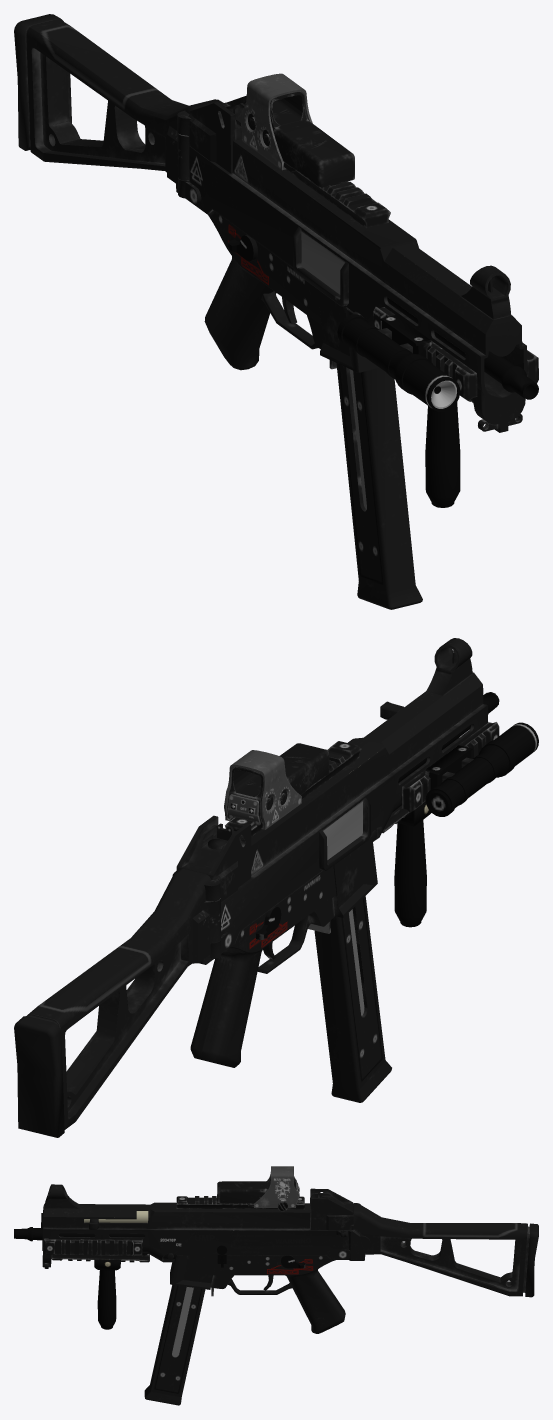
The model's file is SMG_U45.fbx.
3 views of the same model, one above another, from view 1: azimuth 30°, elevation 25°; view 2: azimuth 150°, elevation 25°; view 3: azimuth 270°, elevation 25° (orthographic). The views are drawn at different scales.
Visible parts, largest first — view 1: GunMesh; view 2: GunMesh; view 3: GunMesh.
Boxes of the visible parts, x1=… form: GunMesh: x1=14, y1=14, x2=538, y2=609; GunMesh: x1=14, y1=638, x2=538, y2=1137; GunMesh: x1=14, y1=1166, x2=538, y2=1405.
Size of the model in its own units: 0.0967 by 0.3364 by 0.6899.
Materials: 1 (1 with a texture image).
